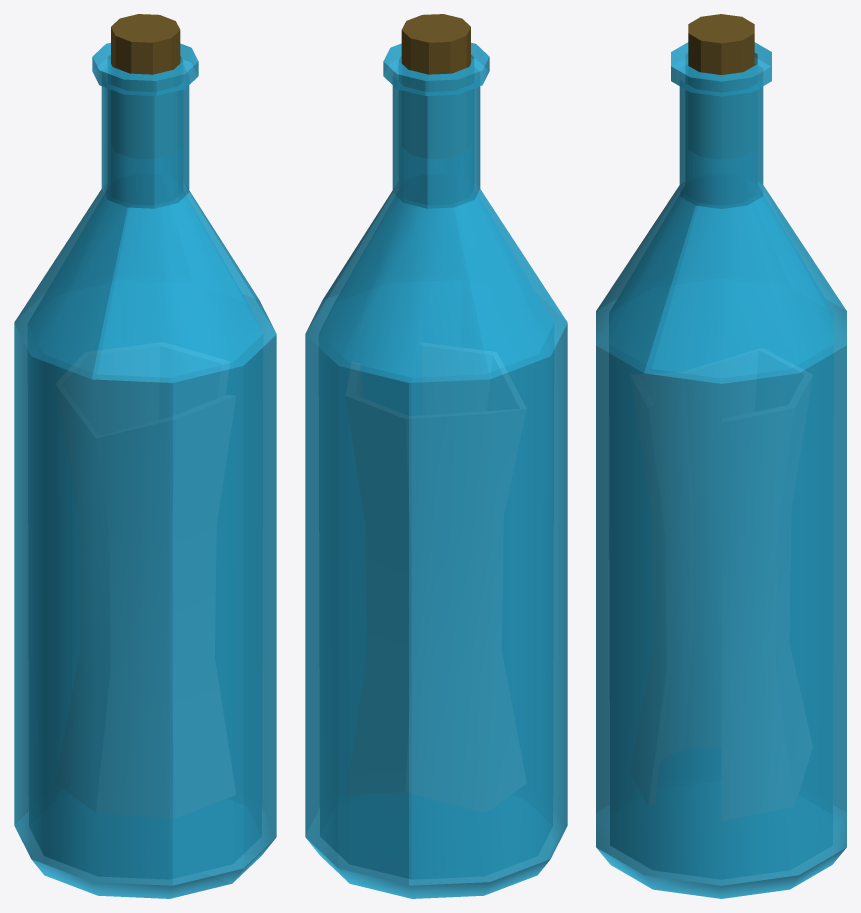
The model's file is message_bottle.fbx.
3 views of the same model, side by side, from view 1: azimuth 30°, elevation 25°; view 2: azimuth 150°, elevation 25°; view 3: azimuth 270°, elevation 25° (orthographic).
Visible parts, largest first — view 1: message_bottle; view 2: message_bottle; view 3: message_bottle.
Part boxes in pixels (<box>): message_bottle: <box>14,14,276,898</box>; message_bottle: <box>305,14,567,898</box>; message_bottle: <box>596,14,846,898</box>.
Bounding box in the file's own units: 166 × 571 × 158.
